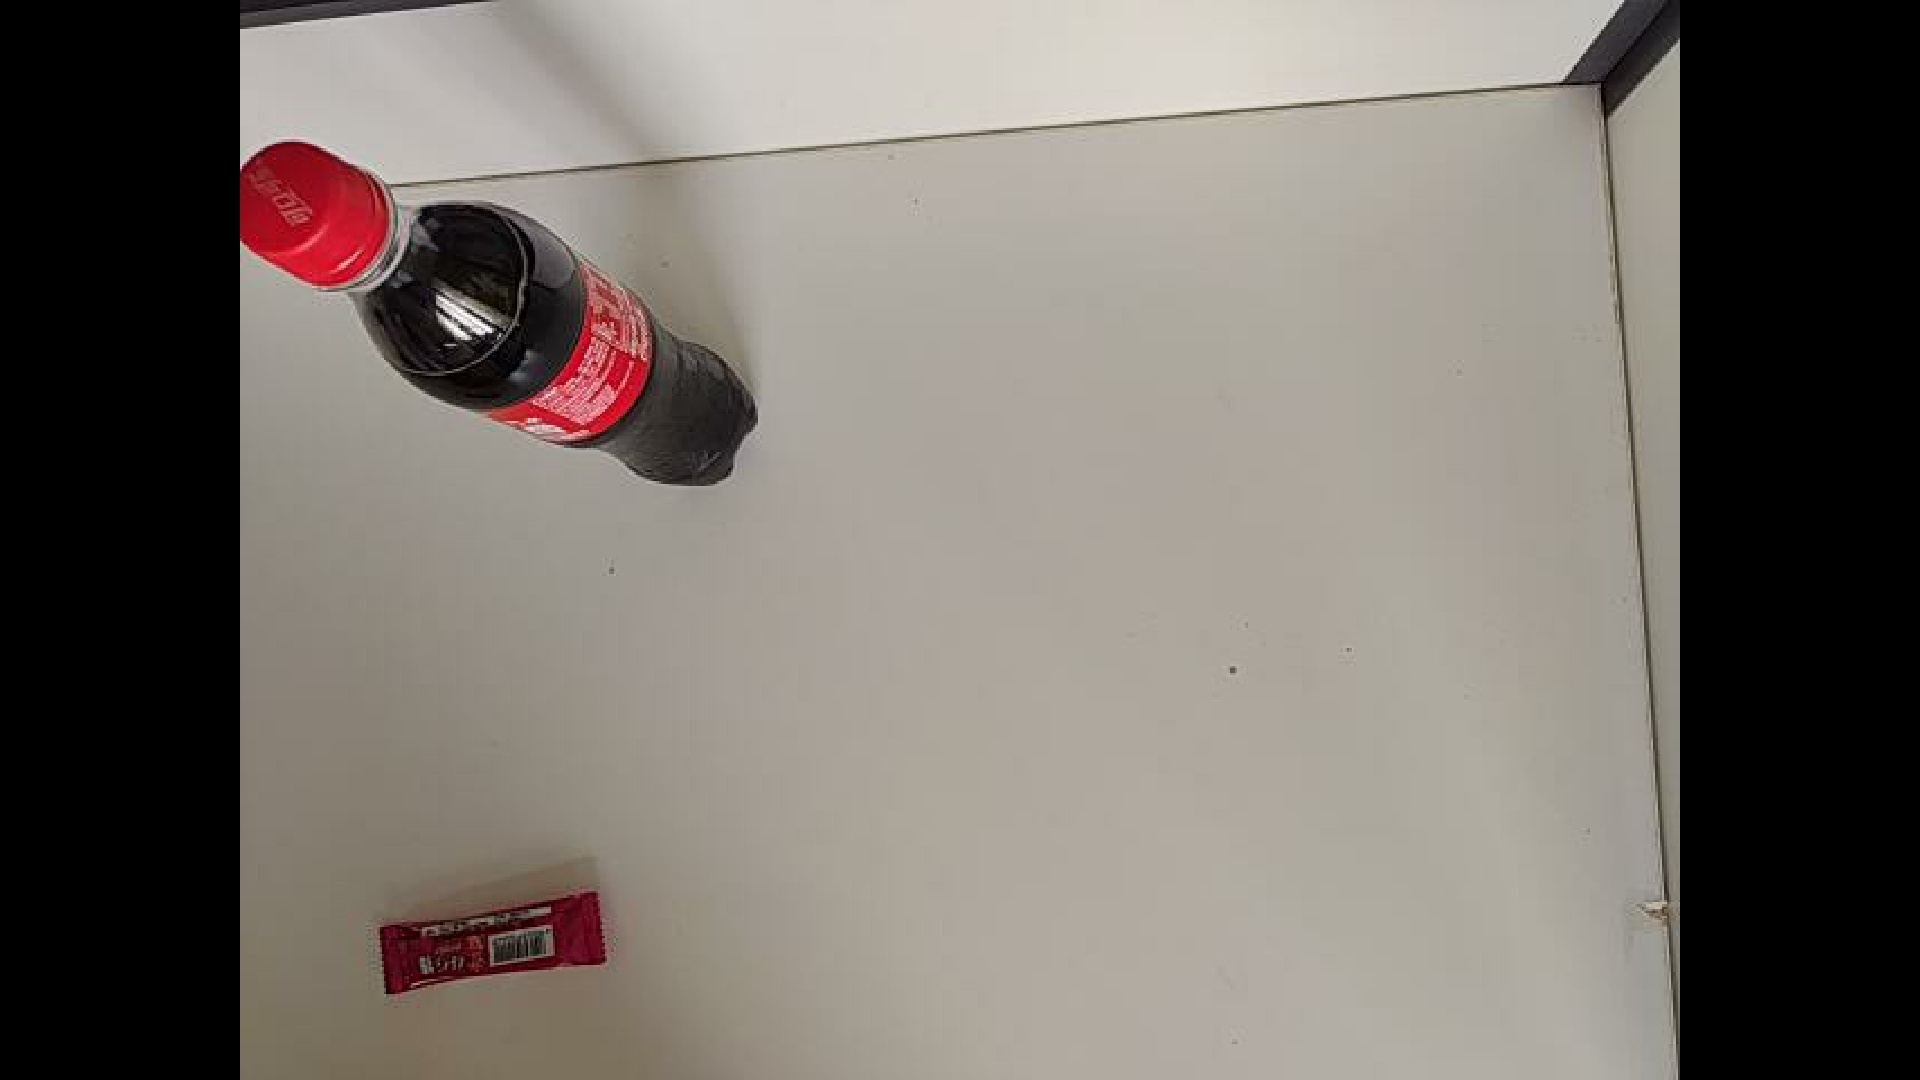cola: (241, 140, 758, 488)
sugar: (373, 902, 620, 998)
